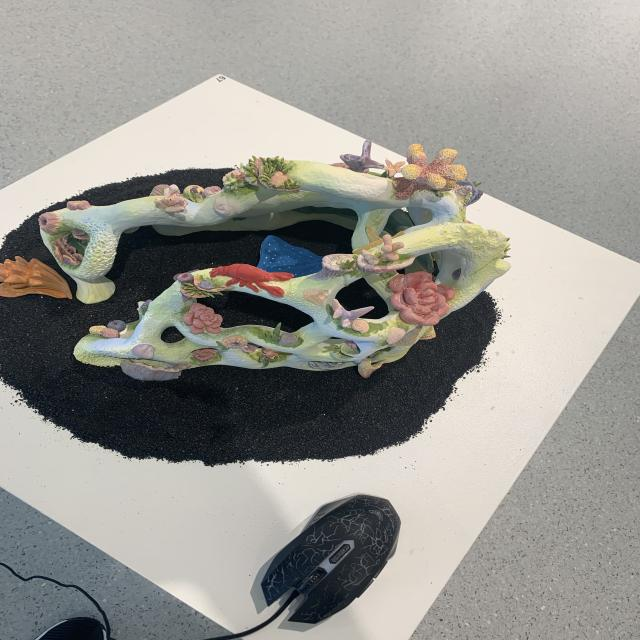Mouse: (243, 490, 424, 629)
